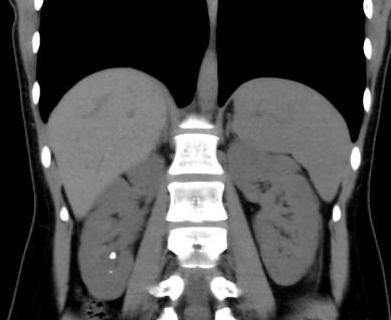Tas_Var: (108, 250, 117, 260), (108, 268, 117, 276)
